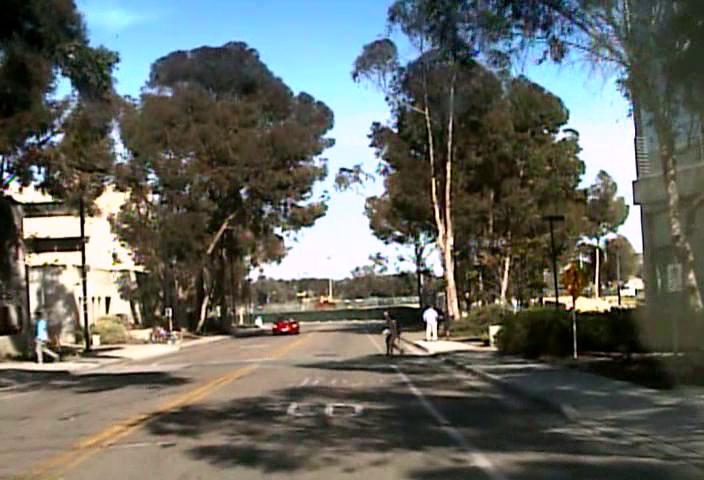pedestrianCrossing: (559, 261, 588, 297)
